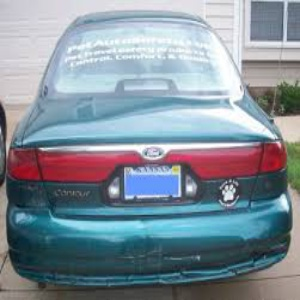bumper_scratch: (99, 237, 218, 278)
